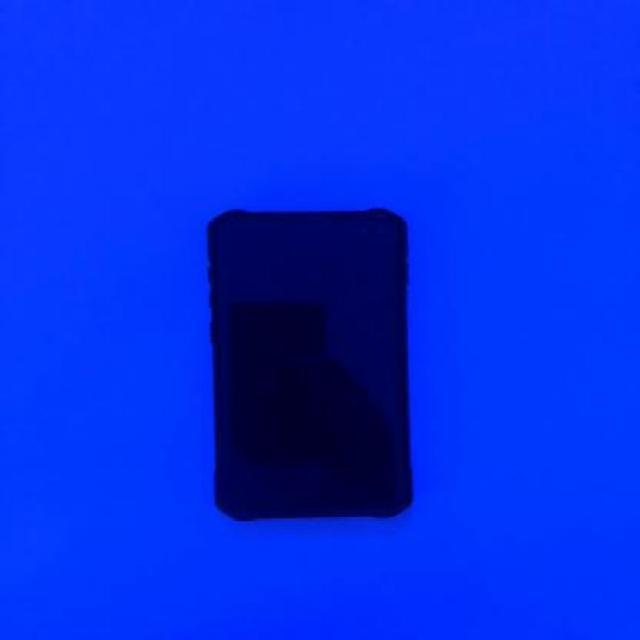phone: (200, 203, 418, 520)
